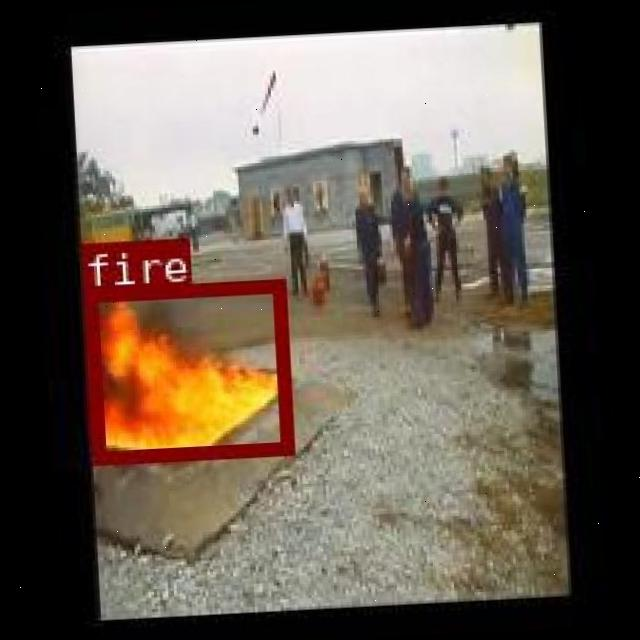fire: (81, 278, 290, 463)
